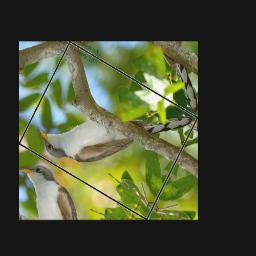Cuckoo: (27, 47, 196, 215)
